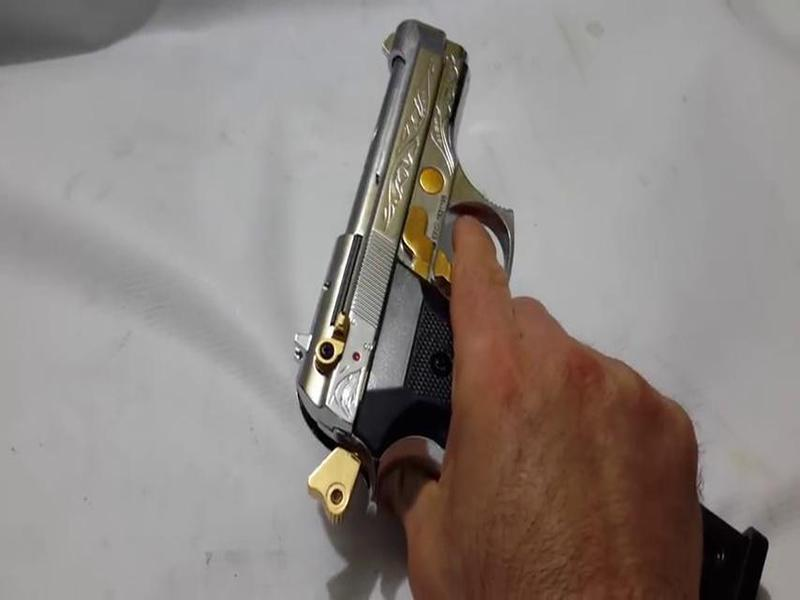Pistola: (246, 2, 570, 543)
